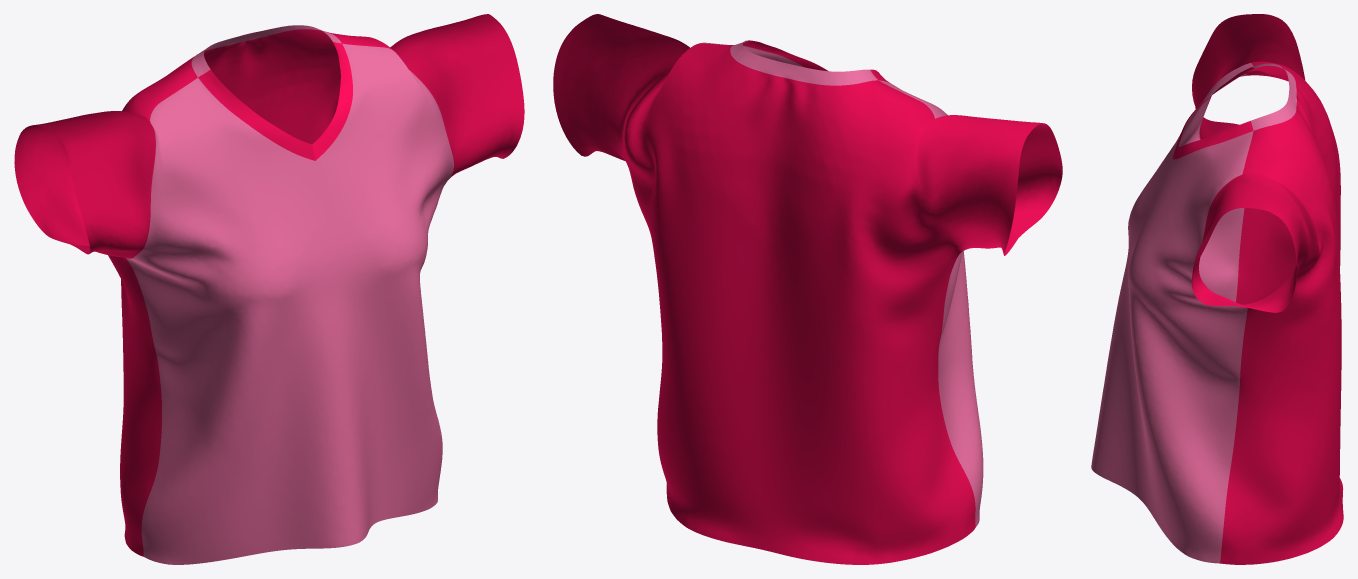
Rendered from female_pink_tshirt_XXL.glb.
3 views of the same model, side by side, from view 1: azimuth 30°, elevation 25°; view 2: azimuth 150°, elevation 25°; view 3: azimuth 270°, elevation 25° (orthographic). The views are drawn at different scales.
Visible parts, largest first — view 1: V_neck_T_shirt_horizontal_sleeves; view 2: V_neck_T_shirt_horizontal_sleeves; view 3: V_neck_T_shirt_horizontal_sleeves.
Boxes of the visible parts, x1=… form: V_neck_T_shirt_horizontal_sleeves: x1=14, y1=14, x2=524, y2=564; V_neck_T_shirt_horizontal_sleeves: x1=553, y1=14, x2=1062, y2=564; V_neck_T_shirt_horizontal_sleeves: x1=1091, y1=14, x2=1343, y2=564.
Size of the model in its own units: 0.6421 by 0.6173 by 0.3375.
